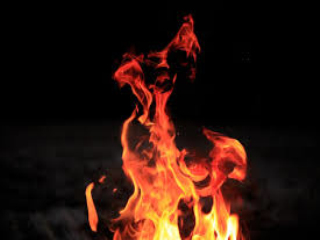fire: (78, 19, 257, 239)
